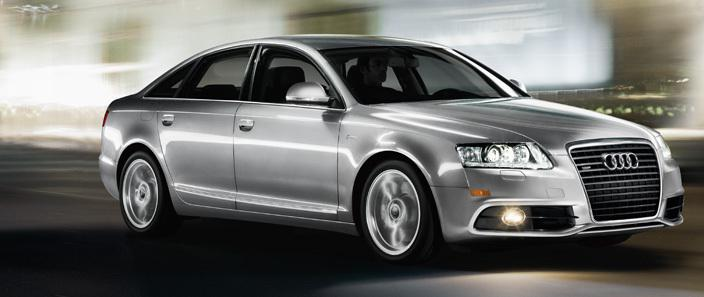Car: (81, 16, 703, 277)
